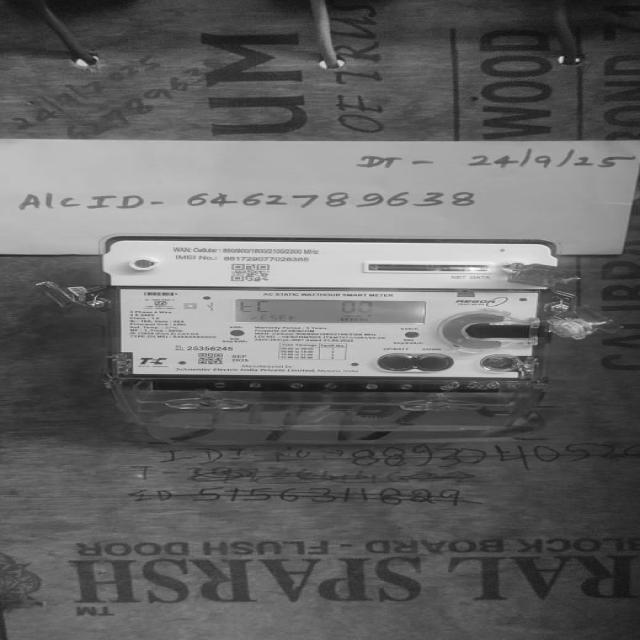meter: (95, 241, 550, 378)
